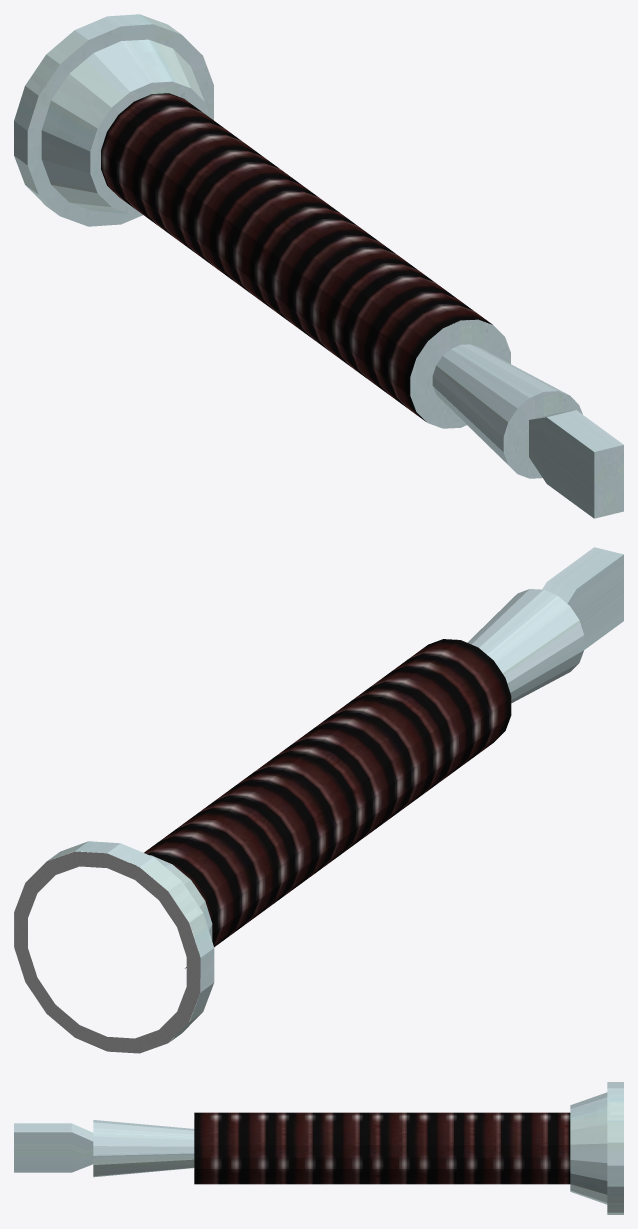
The model's file is jg-sbzj-020-geode.glb.
3 renders of one model, top to bottom at view 1: azimuth 30°, elevation 25°; view 2: azimuth 150°, elevation 25°; view 3: azimuth 270°, elevation 25°, orthographic. The views are drawn at different scales.
Visible parts, largest first — view 1: Node; view 2: Node; view 3: Node.
Part boxes in pixels (x1,y1,x2,y2): Node: (14,14,623,518); Node: (14,547,623,1053); Node: (14,1082,623,1214).
Bounding box in the file's own units: 0.3166 × 0.3215 × 1.48.
3 materials, 3 textured.
